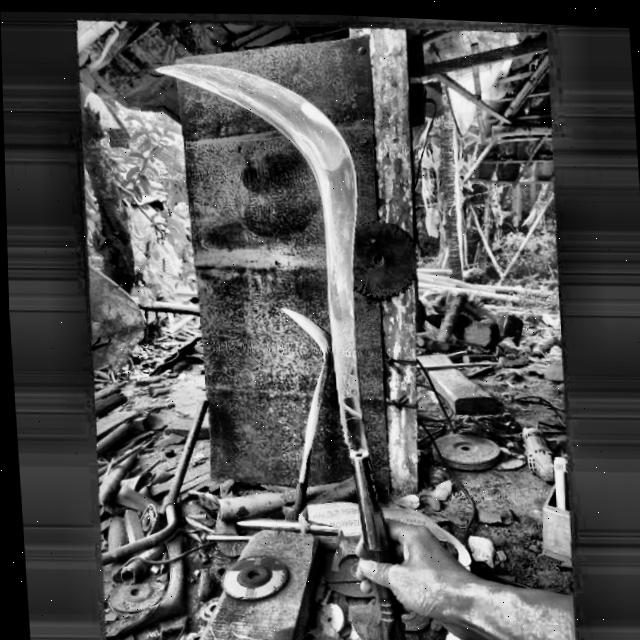celurit: (146, 52, 422, 640)
